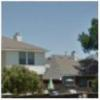chimneys: (15, 32, 22, 44)
